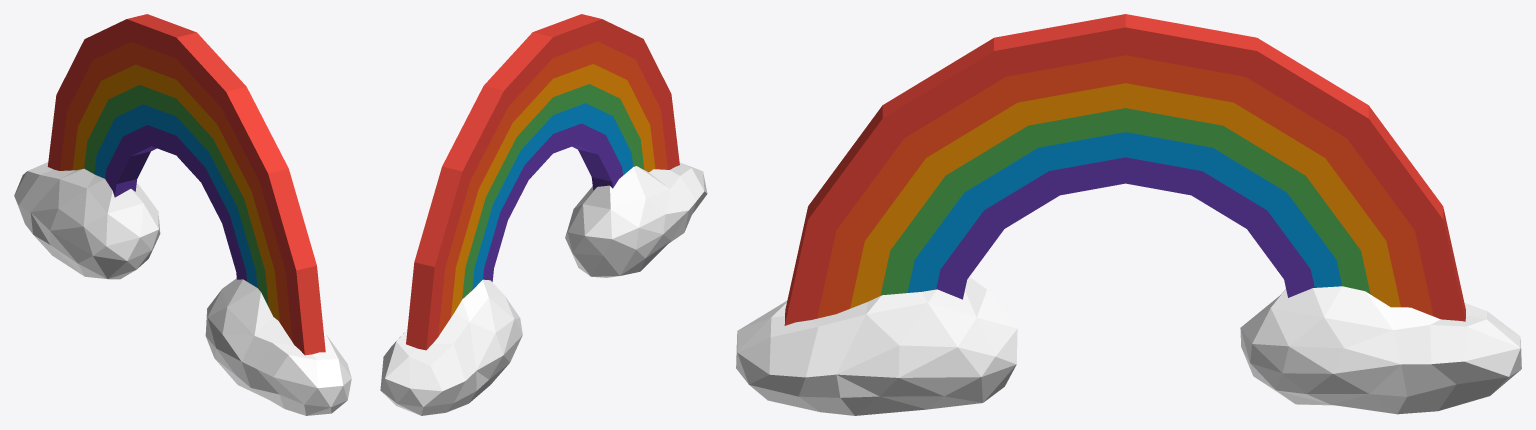
Rendered from Rainbow_01.obj.
3 views of the same model, side by side, from view 1: azimuth 30°, elevation 25°; view 2: azimuth 150°, elevation 25°; view 3: azimuth 270°, elevation 25° (orthographic). The views are drawn at different scales.
Visible parts, largest first — view 1: Rainbow_Circle.010; view 2: Rainbow_Circle.010; view 3: Rainbow_Circle.010.
Boxes of the visible parts, x1,y1,x2,y2 form: Rainbow_Circle.010: (14, 14, 351, 415); Rainbow_Circle.010: (380, 14, 707, 415); Rainbow_Circle.010: (736, 14, 1521, 415).
Size of the model in its own units: 3.27 by 9.97 by 18.33.
